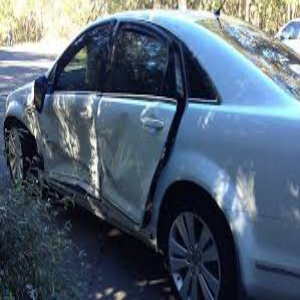door: (71, 111, 167, 200)
